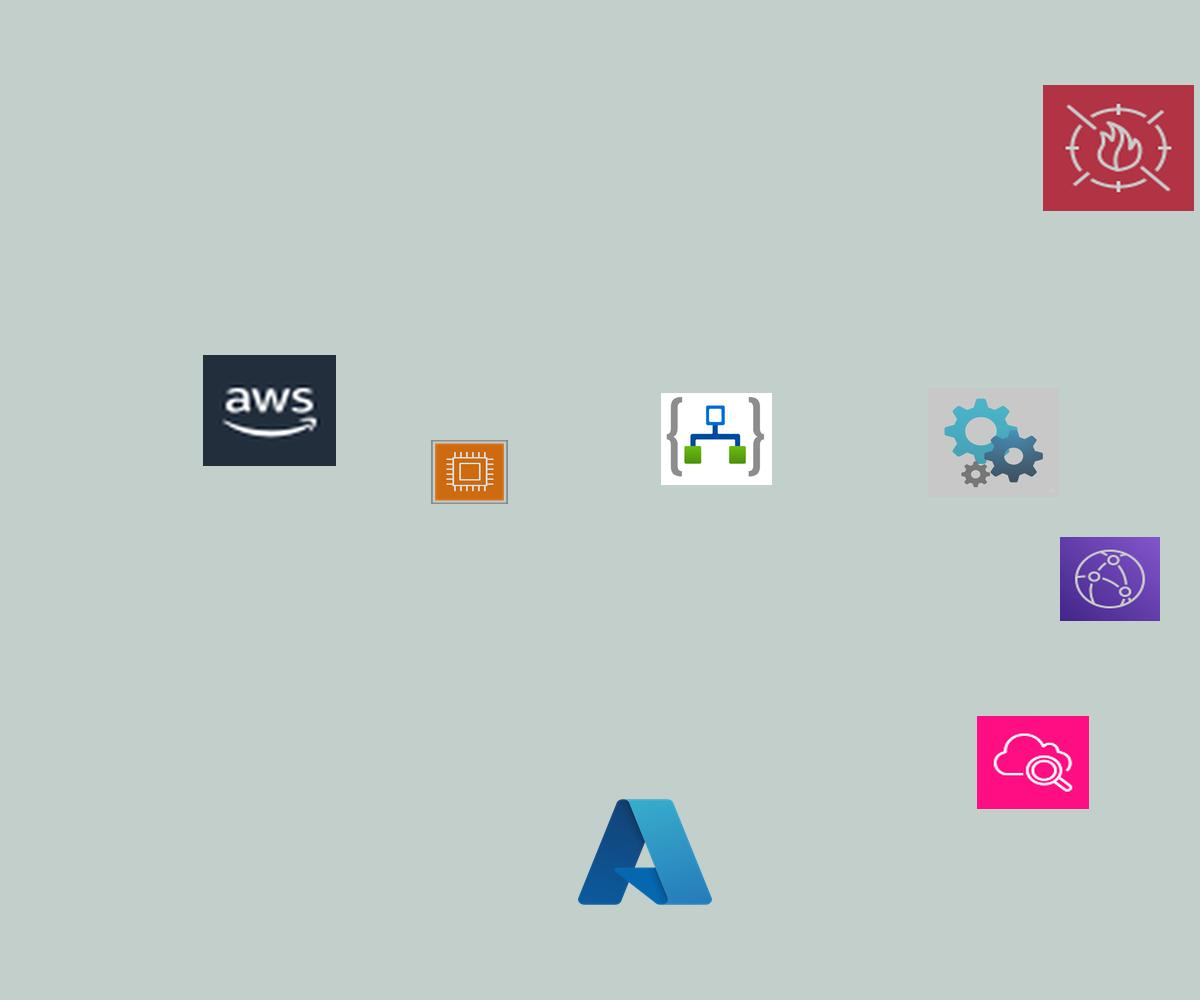AWS-Category_Compute: (431, 440, 508, 504)
AWS-Cloud-logo: (203, 355, 336, 466)
AWS-CloudFront: (1060, 537, 1160, 621)
AWS-CloudWatch: (977, 716, 1089, 809)
AWS-WAF: (1043, 85, 1194, 211)
Azure_api: (928, 388, 1059, 497)
Azure_integration-204-Logic-Apps: (661, 393, 772, 485)
Azure_services: (572, 791, 718, 913)
